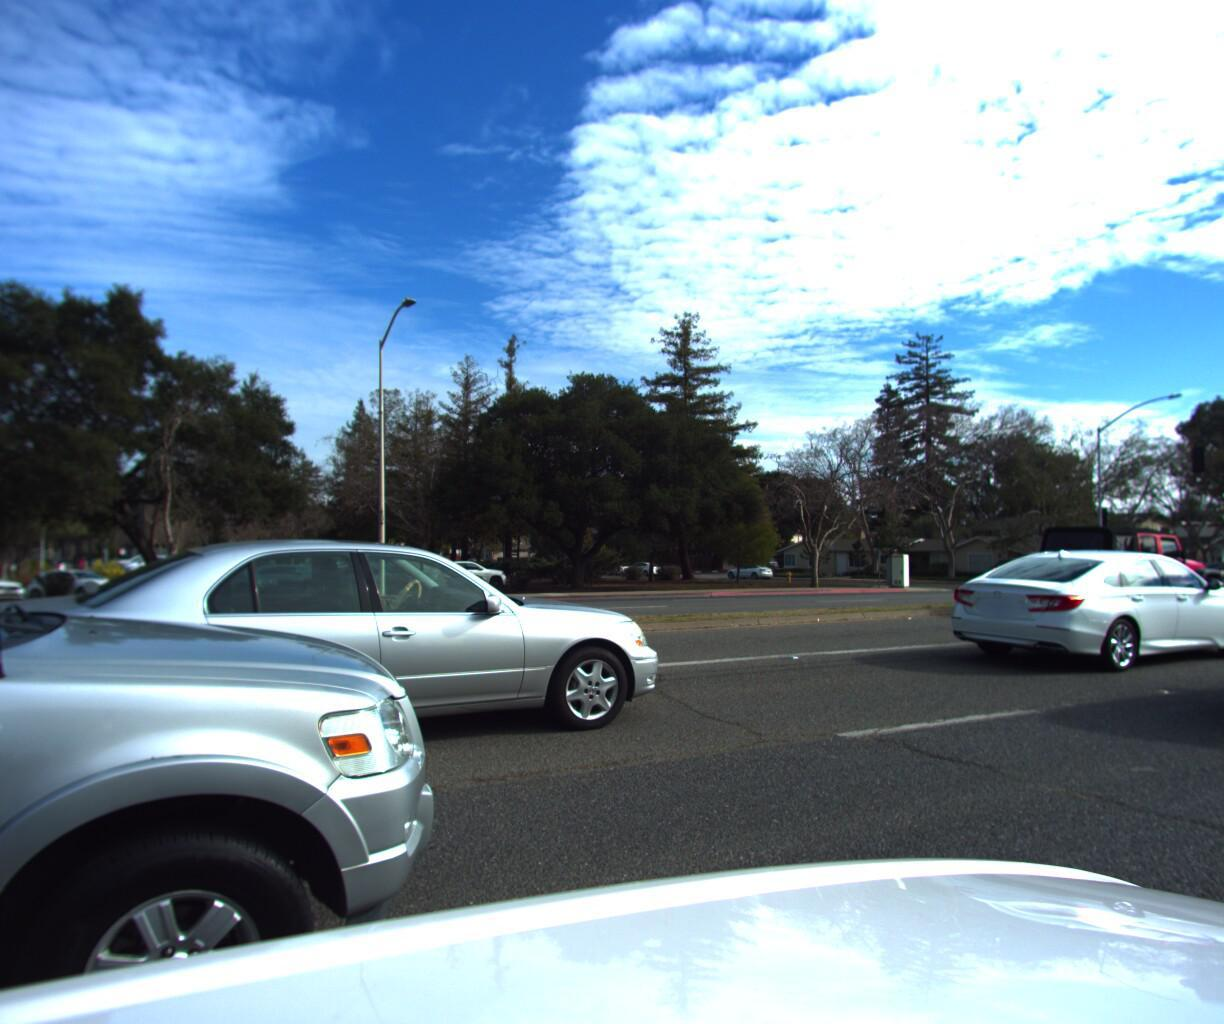car: (0, 0, 526, 1024), (0, 525, 696, 801), (934, 542, 1224, 670), (1018, 516, 1224, 613), (1183, 520, 1224, 751), (722, 559, 777, 579), (620, 558, 665, 575)
